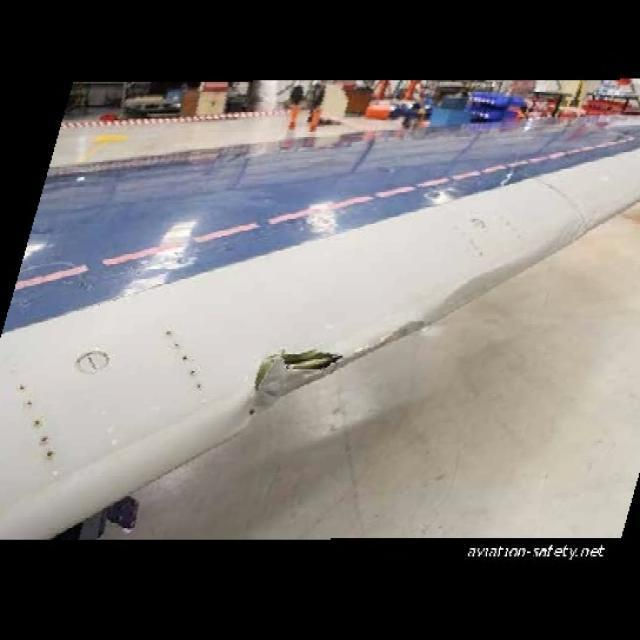crack: (243, 346, 349, 420)
dent: (436, 259, 539, 321), (385, 323, 428, 345)
